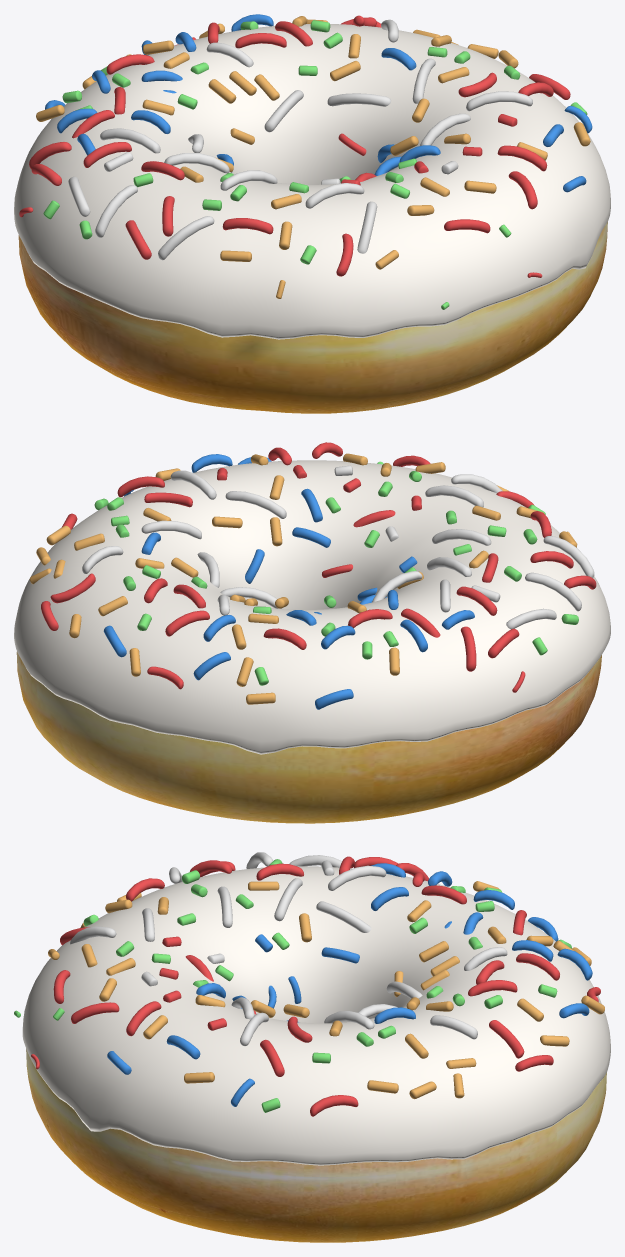
The model's file is white_rainbow_vermicheli.glb.
3 renders of one model, top to bottom at view 1: azimuth 30°, elevation 25°; view 2: azimuth 150°, elevation 25°; view 3: azimuth 270°, elevation 25°, orthographic. The views are drawn at different scales.
Parts seen in each view (by area): view 1: white, Torus, blue.002; view 2: white, Torus, blue.002; view 3: white, Torus, blue.002.
Boxes of the visible parts, x1,y1,x2,y2 form: white: (14, 24, 610, 339); Torus: (18, 221, 607, 413); blue.002: (19, 14, 592, 309); white: (14, 460, 610, 754); Torus: (16, 651, 601, 823); blue.002: (29, 442, 596, 709); white: (22, 866, 610, 1165); Torus: (26, 1048, 606, 1242); blue.002: (14, 852, 604, 1116).
Bounding box in the file's own units: 0.1988 × 0.0773 × 0.1999.
7 materials, 1 textured.
